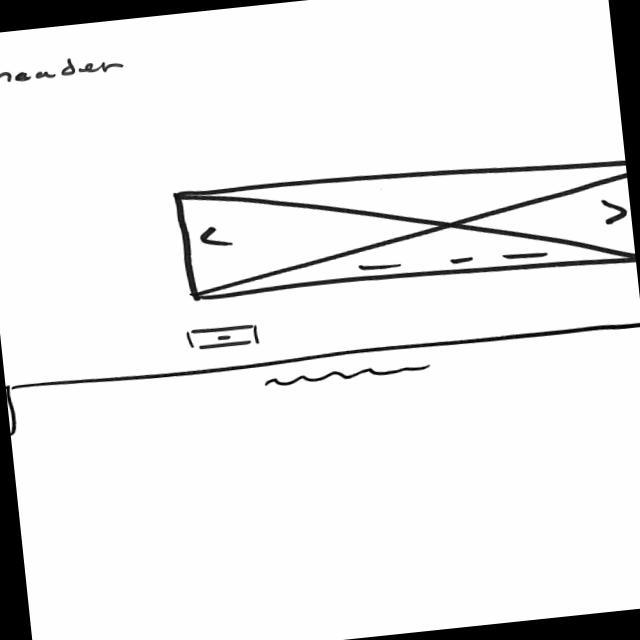icon-button: (183, 321, 264, 355)
image: (173, 143, 637, 310)
label: (1, 48, 126, 86)
text: (260, 360, 434, 393)
